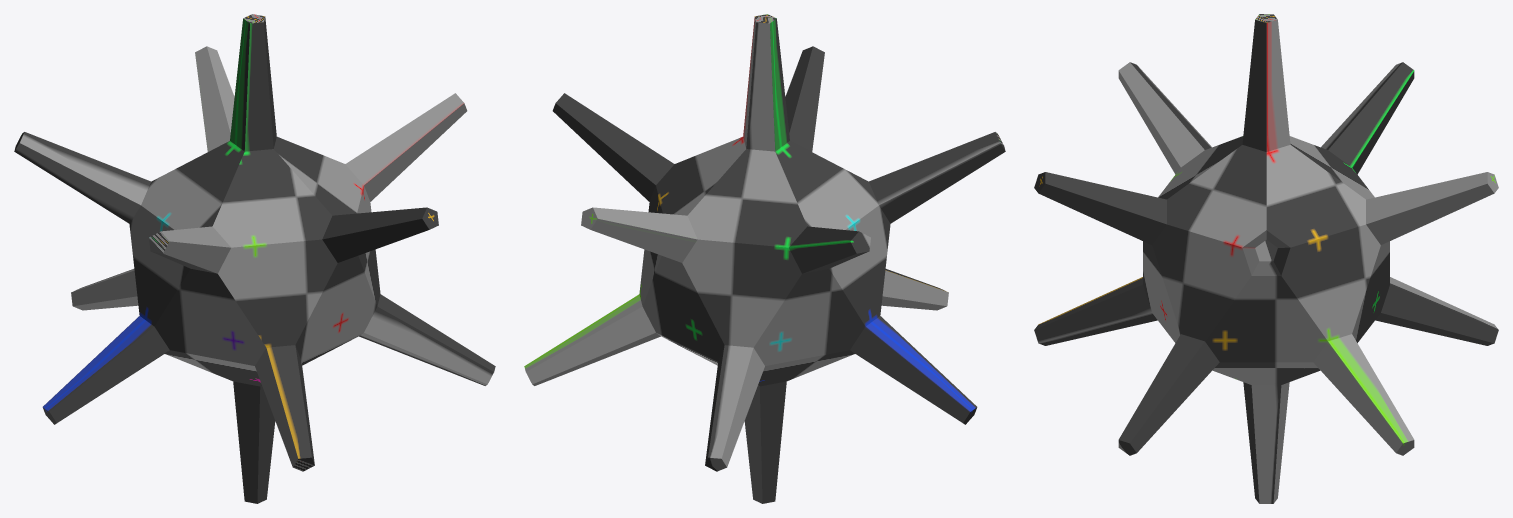
Rendered from claw2.glb.
3 views of the same model, side by side, from view 1: azimuth 30°, elevation 25°; view 2: azimuth 150°, elevation 25°; view 3: azimuth 270°, elevation 25° (orthographic).
Parts seen in each view (by area): view 1: mine.001; view 2: mine.001; view 3: mine.001.
Part boxes in pixels (box(x1,y1,x2,y2)): mine.001: box(14, 14, 495, 503); mine.001: box(524, 14, 1005, 503); mine.001: box(1034, 14, 1498, 503).
Bounding box in the file's own units: 3.33 × 3.66 × 3.2.
Materials: 1 (1 with a texture image).
